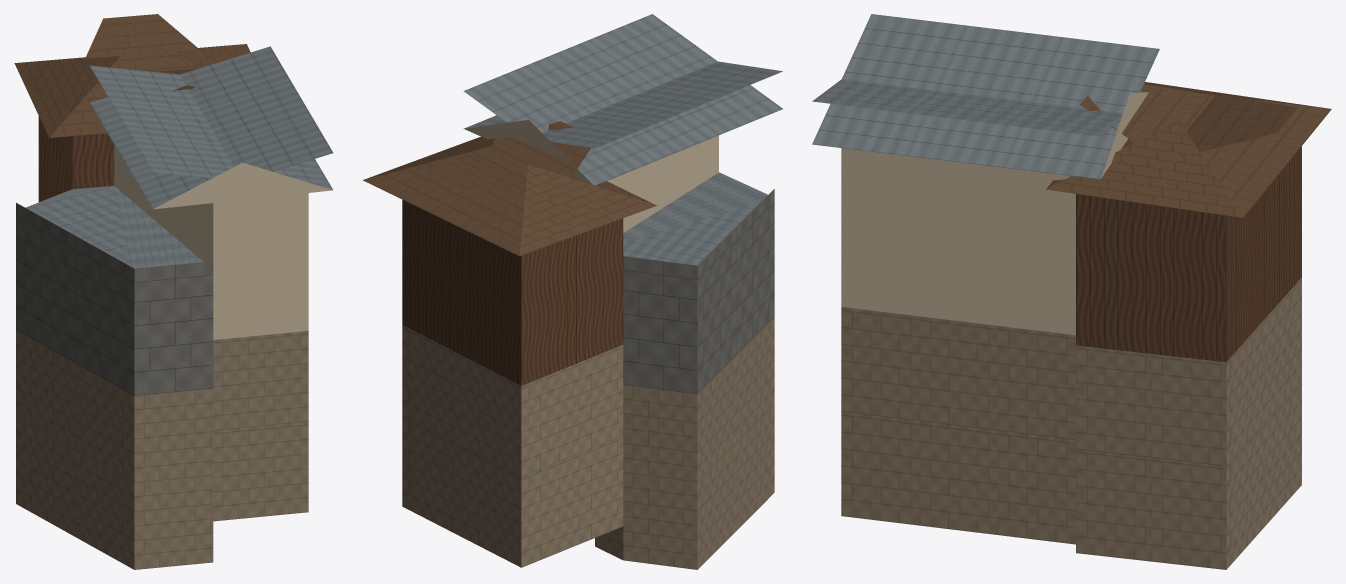
The model's file is bld_c24_29_398.gltf.
3 views of the same model, side by side, from view 1: azimuth 30°, elevation 25°; view 2: azimuth 150°, elevation 25°; view 3: azimuth 270°, elevation 25° (orthographic). The views are drawn at different scales.
Parts seen in each view (by area): view 1: bld_c24_29_398; view 2: bld_c24_29_398; view 3: bld_c24_29_398.
Part boxes in pixels (box(x1,y1,x2,y2)): bld_c24_29_398: box(14, 14, 333, 569); bld_c24_29_398: box(363, 14, 782, 569); bld_c24_29_398: box(812, 14, 1331, 569).
Bounding box in the file's own units: 7.9 × 10.9 × 10.96.
Materials: 8 (8 with a texture image).
